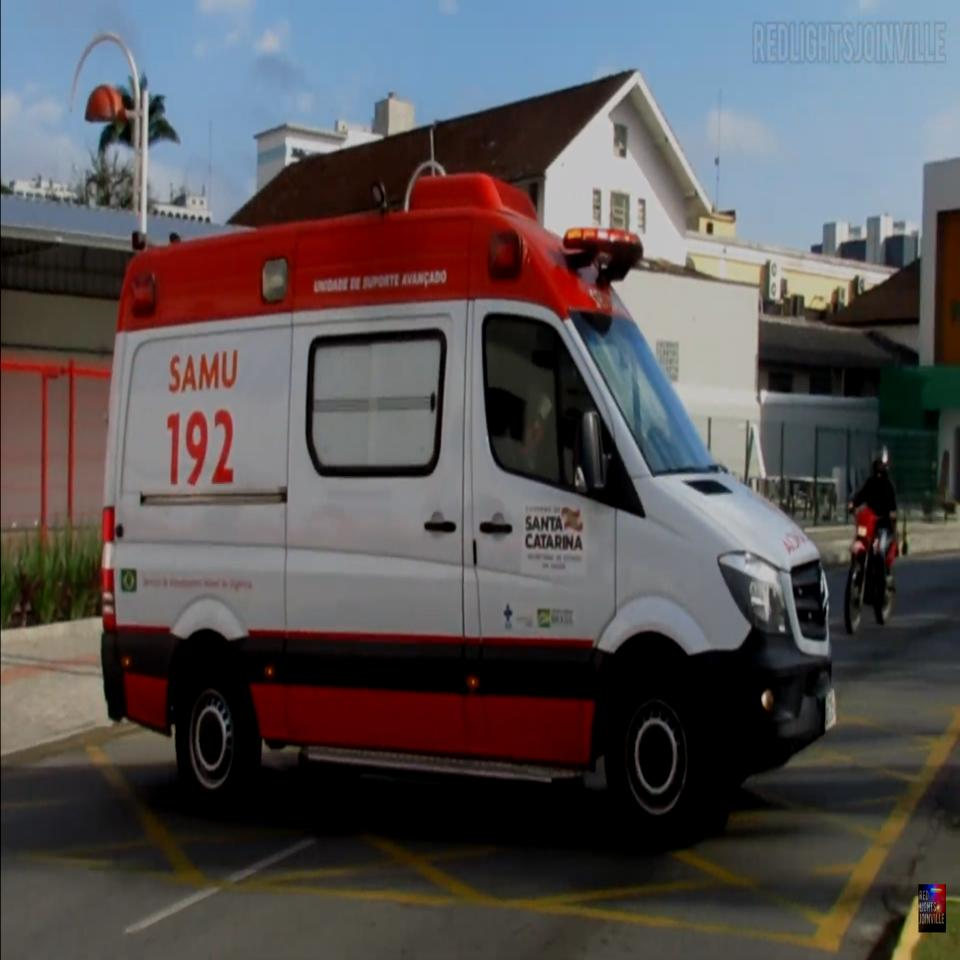ambulancia: (99, 157, 840, 852)
